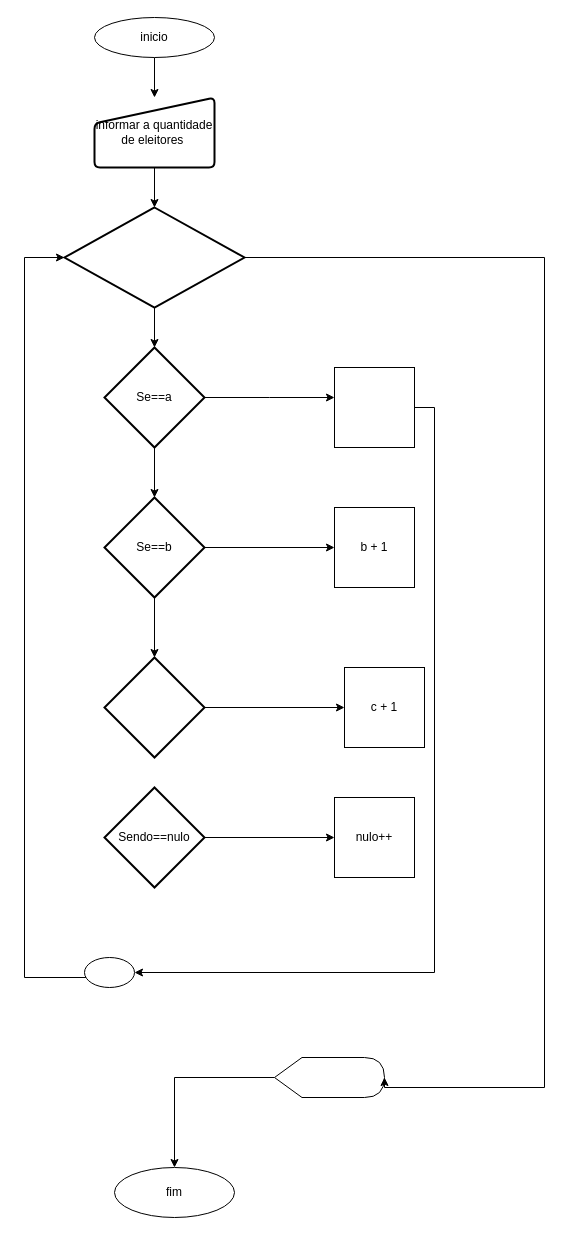
The diagram is 570 pixels wide and 1235 high, and some of its shapes have lost their labels. Each missing label, with the box of its shape:
a + 1: (334, 366, 414, 448)
i=1 até i <= quantidade de eleitores sendo i++: (63, 206, 245, 308)
imprimir o resultado: (274, 1056, 384, 1098)
Se==c: (103, 656, 205, 758)
